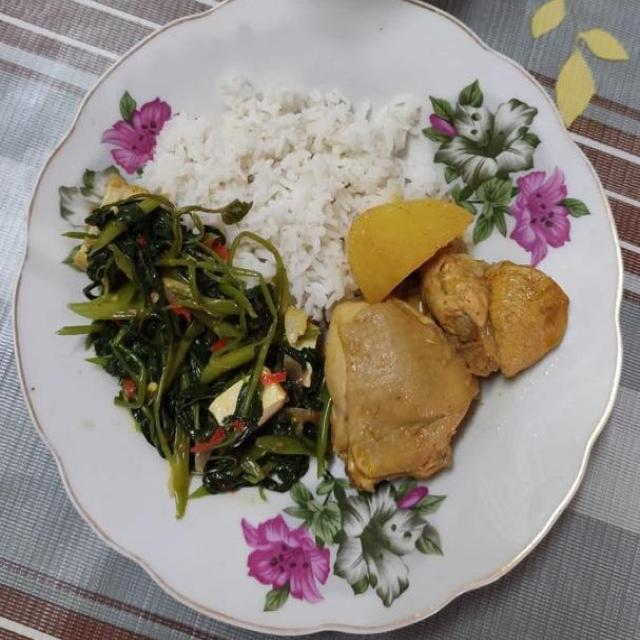Chicken: (319, 252, 569, 486)
Plate: (15, 0, 619, 631)
Rice: (139, 75, 437, 307)
Vegetables: (58, 171, 332, 515), (341, 198, 475, 302)
